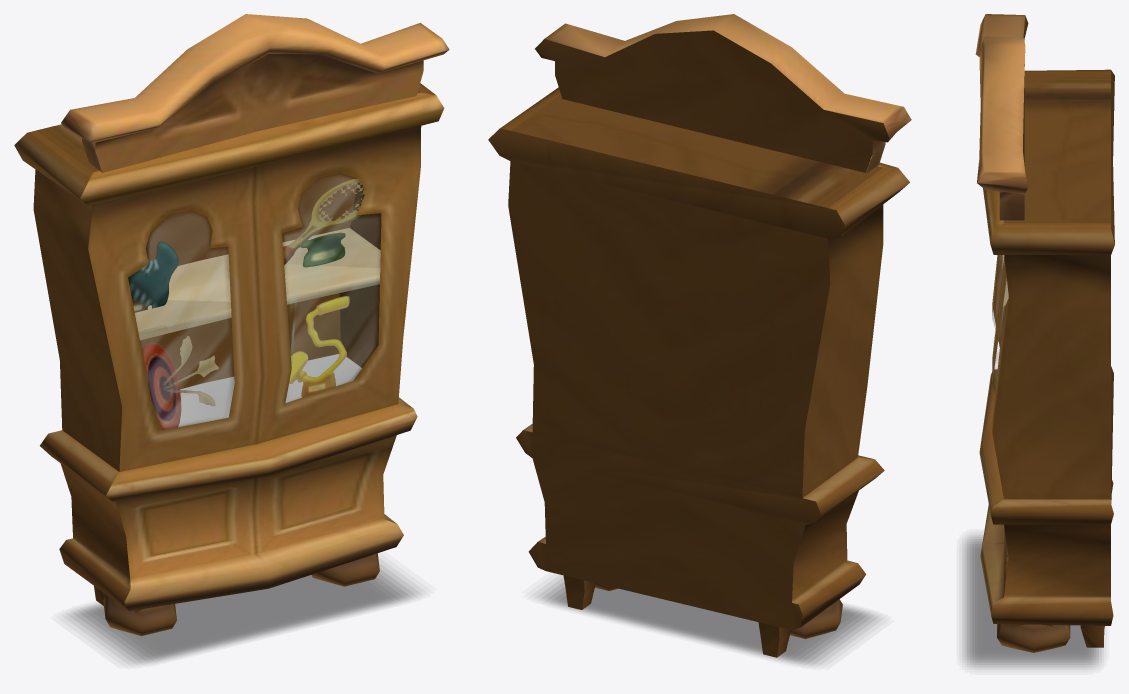
File: cabinetYwood.glb
The picture shows the model from 3 angles, left to right: view 1: azimuth 30°, elevation 25°; view 2: azimuth 150°, elevation 25°; view 3: azimuth 270°, elevation 25°; orthographic projection. The views are drawn at different scales.
Parts seen in each view (by area): view 1: mid_m, low_mid, top1, mid_l, cabinetRwoodShadow, polySurface3, polySurface4, back, shelf, low_l, mid_r, FLAT_Golf (+8 smaller); view 2: back, polySurface8, polySurface6, mid_l, polySurface5, polySurface7, cabinetRwoodShadow, top1, low_l, CABINET_Frontlegball_l; view 3: mid_r, low_r, polySurface5, top1, cabinetRwoodShadow, low_mid, CABINET_Frontlegball_l1, mid_m, mid_l, polySurface7, RB_foot1, polySurface4 (+1 smaller).
Boxes of the visible parts, x1,y1,x2,y2 form: mid_m: (80, 92, 444, 471); low_mid: (106, 404, 417, 611); top1: (61, 14, 449, 172); mid_l: (14, 130, 121, 471); cabinetRwoodShadow: (65, 563, 420, 664); polySurface3: (282, 173, 380, 400); polySurface4: (128, 211, 234, 429); back: (140, 172, 357, 389); shelf: (134, 228, 380, 340); low_l: (40, 430, 130, 610); mid_r: (339, 83, 435, 367); FLAT_Golf: (142, 335, 218, 430); back: (508, 161, 830, 498); polySurface8: (516, 430, 820, 629); polySurface6: (535, 30, 889, 172); mid_l: (802, 167, 909, 497); polySurface5: (511, 94, 882, 207); polySurface7: (488, 128, 844, 238); cabinetRwoodShadow: (536, 577, 880, 665); top1: (544, 14, 911, 173); low_l: (792, 457, 884, 627); CABINET_Frontlegball_l: (790, 599, 842, 638); mid_r: (990, 223, 1114, 499); low_r: (990, 499, 1113, 625); polySurface5: (1004, 73, 1110, 223); top1: (975, 14, 1028, 220); cabinetRwoodShadow: (962, 534, 1101, 667); low_mid: (979, 369, 1008, 615); CABINET_Frontlegball_l1: (997, 624, 1070, 652); mid_m: (983, 188, 1008, 430); mid_l: (993, 69, 1110, 342); polySurface7: (1111, 70, 1114, 244); RB_foot1: (1080, 625, 1104, 647); polySurface4: (992, 255, 1003, 348).
Bounding box in the file's own units: 6.88 × 10.59 × 2.86.
10 materials, 9 textured.
